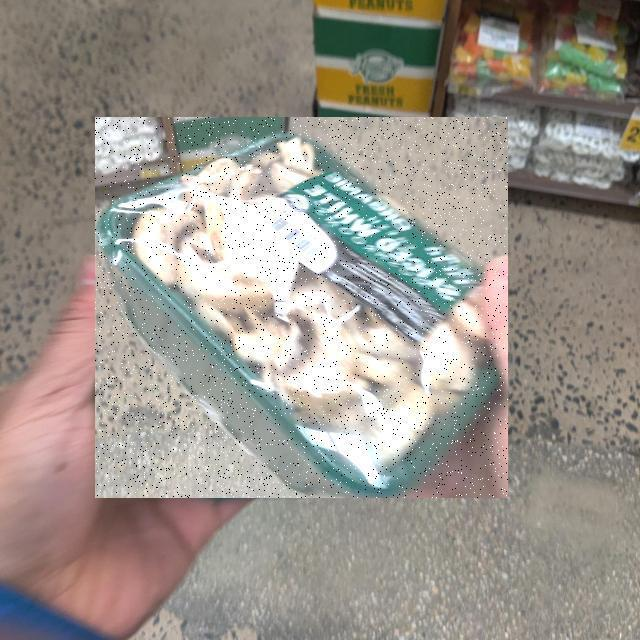mushroom: (0, 249, 349, 640)
